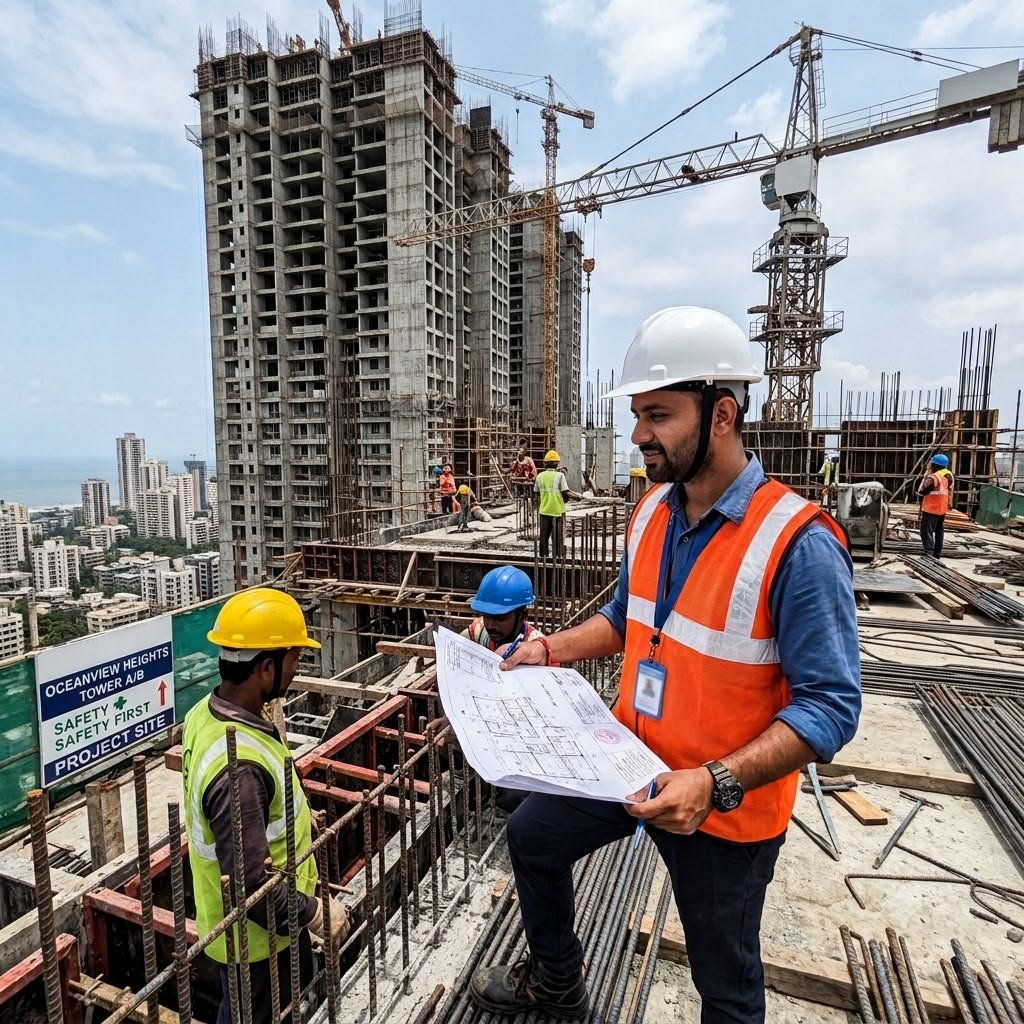crane: (375, 60, 1008, 391), (429, 50, 603, 487)
hardhat: (614, 301, 770, 399), (204, 587, 310, 654), (474, 562, 526, 623), (920, 439, 960, 468), (532, 444, 562, 467)
person: (472, 296, 863, 1017), (134, 577, 360, 1020), (439, 554, 549, 859), (885, 418, 961, 552), (525, 448, 573, 572), (431, 454, 474, 531)
safety_vest: (627, 481, 819, 827), (176, 691, 312, 961), (923, 460, 955, 531), (524, 473, 564, 513), (440, 475, 457, 495)
